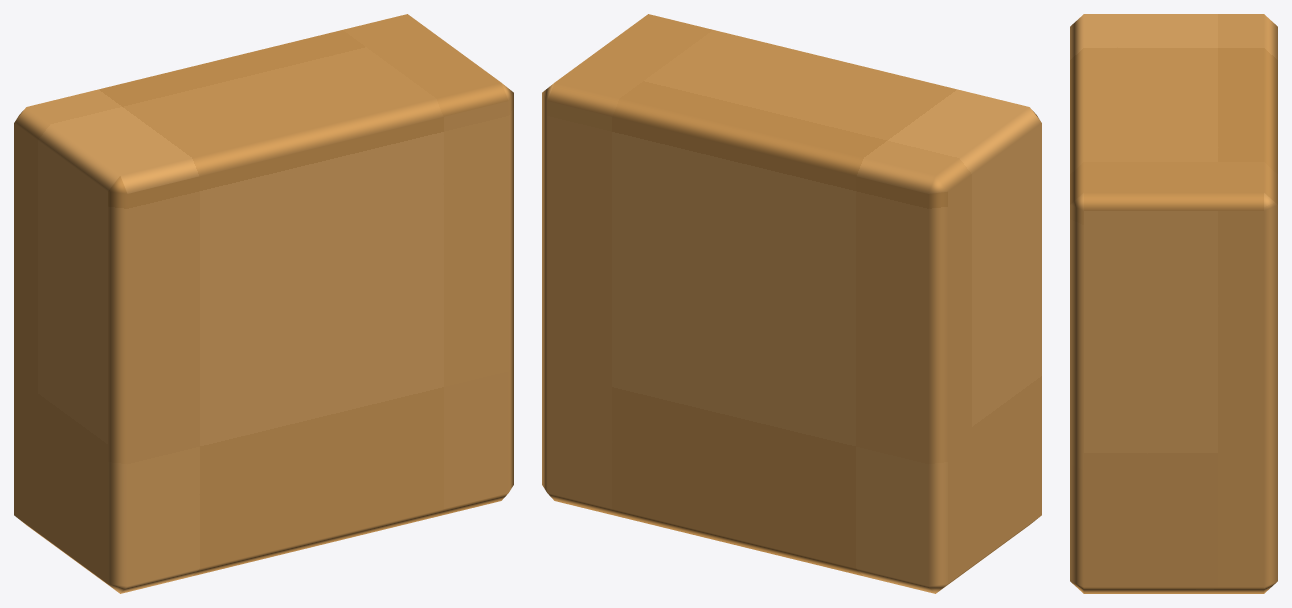
Rendered from Peg-stop-2.glb.
3 views of the same model, side by side, from view 1: azimuth 30°, elevation 25°; view 2: azimuth 150°, elevation 25°; view 3: azimuth 270°, elevation 25° (orthographic). The views are drawn at different scales.
Visible parts, largest first — view 1: Peg-stop-2; view 2: Peg-stop-2; view 3: Peg-stop-2.
Part boxes in pixels (x1,y1,x2,y2): Peg-stop-2: [14, 14, 513, 593]; Peg-stop-2: [542, 14, 1041, 593]; Peg-stop-2: [1070, 14, 1277, 593].
Size of the model in its own units: 0.065 by 0.064 by 0.03.
1 material, 1 textured.
